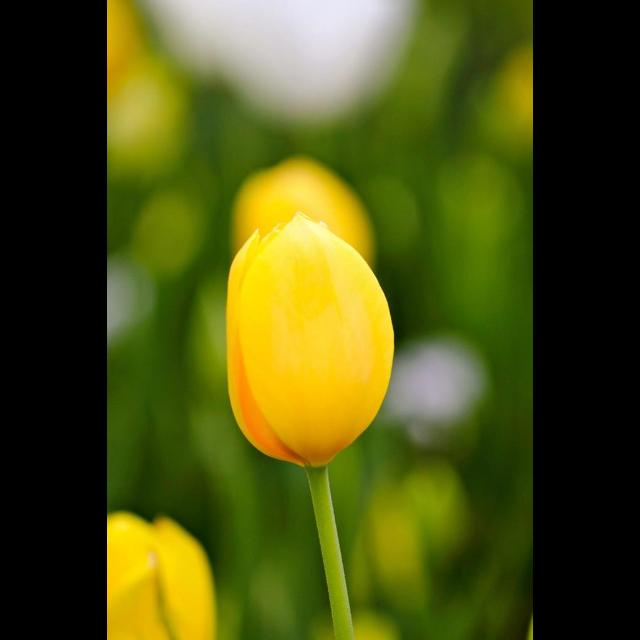Flower: (212, 185, 400, 501), (228, 152, 382, 272), (107, 511, 220, 639)
